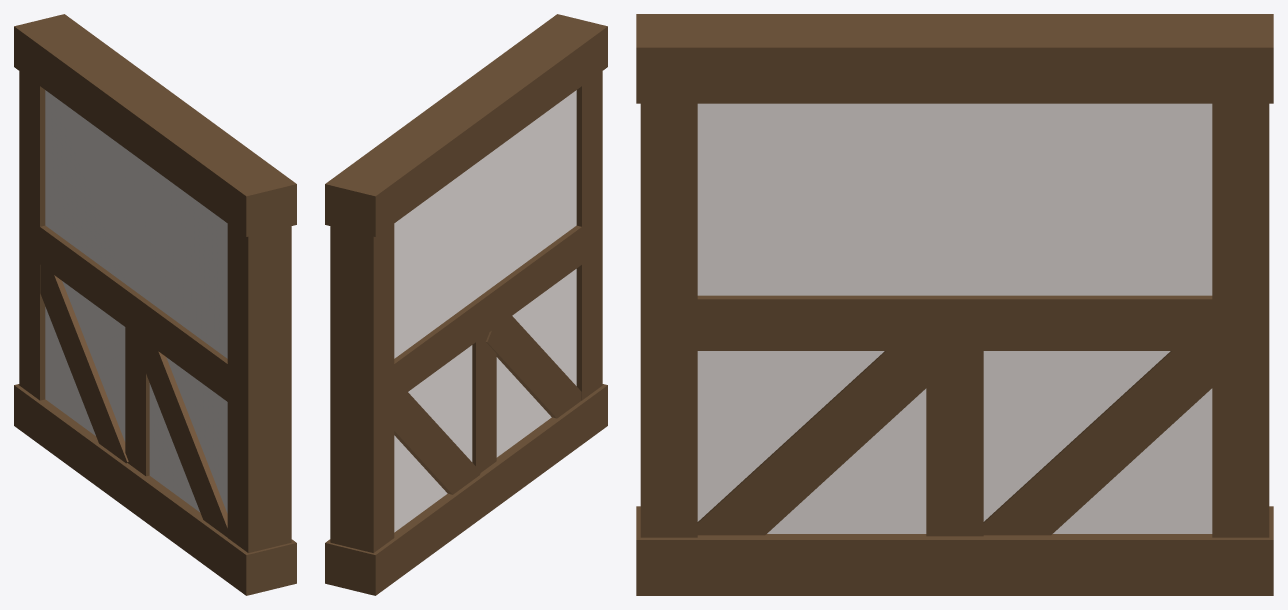
Rendered from Wall06.fbx.
3 renders of one model, left to right at view 1: azimuth 30°, elevation 25°; view 2: azimuth 150°, elevation 25°; view 3: azimuth 270°, elevation 25°, orthographic. The views are drawn at different scales.
Visible parts, largest first — view 1: Wall_05; view 2: Wall_05; view 3: Wall_05.
Boxes of the visible parts, <box> form: Wall_05: <box>14,14,296,595</box>; Wall_05: <box>325,14,607,595</box>; Wall_05: <box>636,14,1273,595</box>.
Bounding box in the file's own units: 28 × 212 × 223.
